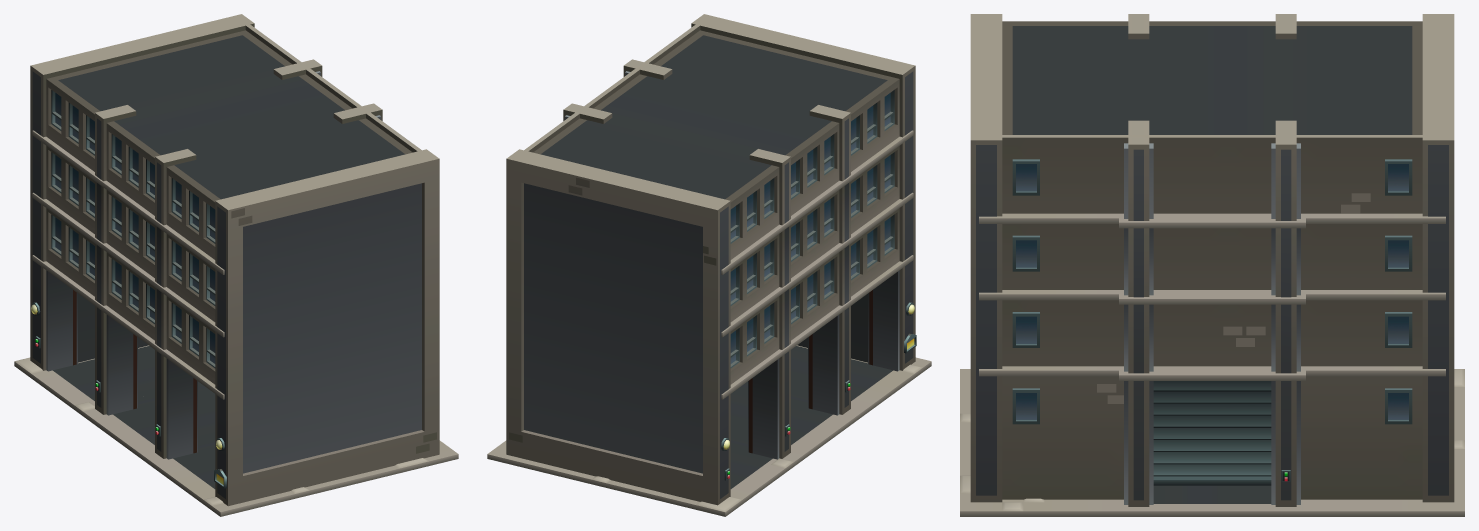
File: Building_15B.fbx
3 renders of one model, left to right at view 1: azimuth 30°, elevation 25°; view 2: azimuth 150°, elevation 25°; view 3: azimuth 270°, elevation 25°, orthographic. The views are drawn at different scales.
Parts seen in each view (by area): view 1: Building_15B; view 2: Building_15B; view 3: Building_15B.
Part boxes in pixels (x1,y1,x2,y2): Building_15B: (14, 14, 458, 516); Building_15B: (487, 14, 931, 516); Building_15B: (960, 14, 1464, 516).
Size of the model in its own units: 488 by 588 by 732.
